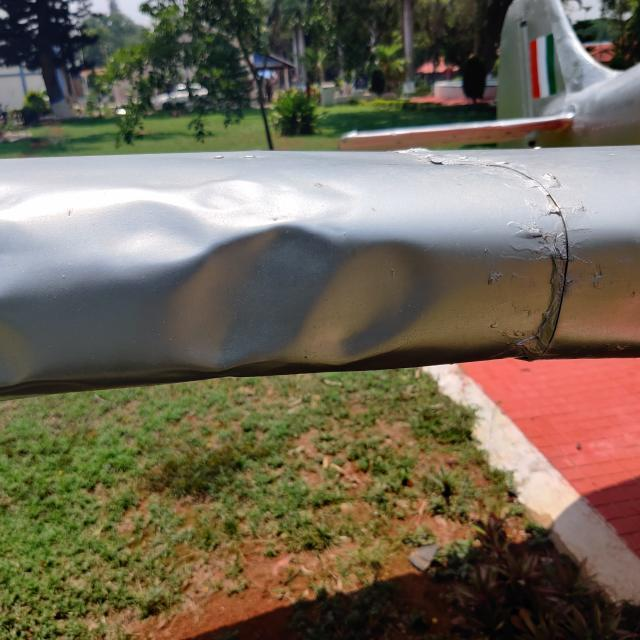dent: (68, 151, 467, 396), (0, 282, 72, 404)
